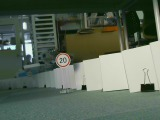speed_20: (55, 53, 71, 68)
